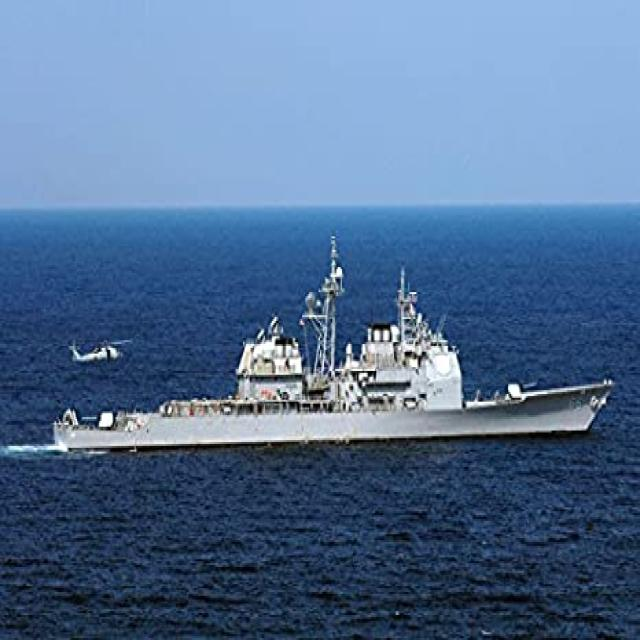navalvessels: (40, 245, 602, 462)
